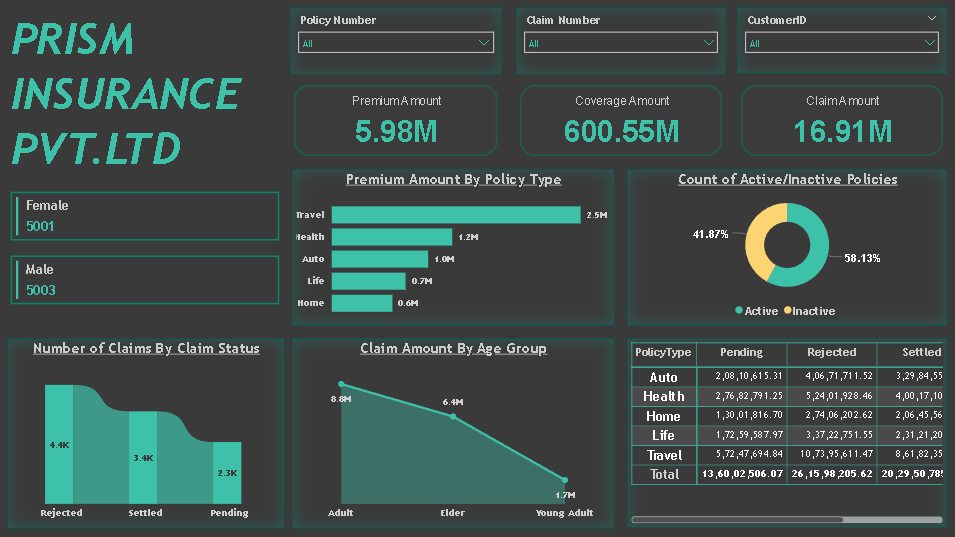

What the dashboard file says about the page in this screenshot:
{"tool":"powerbi","page":{"name":"Page 1","canvas":[1280,720],"ordinal":0},"visuals":[{"type":"slicer","fields":{"Values":["02  InsuranceData.PolicyNumber"]},"box":[391,10.3,282.6,90.3],"z":0},{"type":"slicer","fields":{"Values":["02  InsuranceData.ClaimNumber"]},"box":[691.6,10.3,280,90.3],"z":1000},{"type":"textbox","box":[12.9,10.3,367.7,231],"z":2000},{"type":"cardVisual","fields":{"Data":["Sum(02  InsuranceData.PremiumAmount)"]},"box":[391,109.7,282.6,105.8],"z":3000},{"type":"cardVisual","fields":{"Data":["Sum(02  InsuranceData.CoverageAmount)"]},"box":[691.6,109.7,280,105.8],"z":4000},{"type":"cardVisual","title":"Claim Amount","fields":{"Data":["Sum(02  InsuranceData.ClaimAmount)"]},"box":[987.1,109.7,280,105.8],"z":5000},{"type":"multiRowCard","fields":{"Values":["02  InsuranceData.Gender","CountNonNull(02  InsuranceData.Gender)"]},"box":[12.9,251.6,367.7,184.5],"z":6000},{"type":"ribbonChart","title":"Number of Claims By Claim Status","fields":{"Category":["02  InsuranceData.ClaimStatus"],"Y":["CountNonNull(02  InsuranceData.ClaimStatus)"]},"box":[12.9,451.6,370.3,254.2],"z":7000},{"type":"barChart","title":"Premium Amount By Policy Type","fields":{"Category":["02  InsuranceData.PolicyType"],"Y":["Sum(02  InsuranceData.PremiumAmount)"]},"box":[393.5,227.1,429.7,209],"z":8000},{"type":"lineChart","title":"Claim Amount By Age Group","fields":{"Category":["02  InsuranceData.Age Group"],"Y":["Sum(02  InsuranceData.ClaimAmount)"]},"box":[393.5,451.6,429.7,254.2],"z":9000},{"type":"donutChart","title":"Count of Active/Inactive Policies","fields":{"Category":["02  InsuranceData.Active/Inactive"],"Y":["CountNonNull(02  InsuranceData.Active/Inactive)"]},"box":[840,227.1,427.1,209],"z":10000},{"type":"pivotTable","fields":{"Values":["Sum(02  InsuranceData.CoverageAmount)"],"Rows":["02  InsuranceData.PolicyType"],"Columns":["02  InsuranceData.ClaimStatus"]},"box":[840,451.6,427.1,252.9],"z":11000},{"type":"slicer","fields":{"Values":["02  InsuranceData.CustomerID"]},"box":[987.1,10.3,280,89],"z":12000}]}

Visuals, with their boxes in screenshot pixels (x1, y1, x2, y2), scaled from the page's 1280x720 canvas onto the 955x537 screenshot:
slicer - 02  InsuranceData.PolicyNumber: rect(292, 8, 503, 75)
slicer - 02  InsuranceData.ClaimNumber: rect(516, 8, 725, 75)
textbox: rect(10, 8, 284, 180)
cardVisual - Sum(02  InsuranceData.PremiumAmount): rect(292, 82, 503, 161)
cardVisual - Sum(02  InsuranceData.CoverageAmount): rect(516, 82, 725, 161)
"Claim Amount" cardVisual: rect(736, 82, 945, 161)
multiRowCard - 02  InsuranceData.Gender x CountNonNull(02  InsuranceData.Gender): rect(10, 188, 284, 325)
"Number of Claims By Claim Status" ribbonChart: rect(10, 337, 286, 526)
"Premium Amount By Policy Type" barChart: rect(294, 169, 614, 325)
"Claim Amount By Age Group" lineChart: rect(294, 337, 614, 526)
"Count of Active/Inactive Policies" donutChart: rect(627, 169, 945, 325)
pivotTable - Sum(02  InsuranceData.CoverageAmount) x 02  InsuranceData.PolicyType: rect(627, 337, 945, 525)
slicer - 02  InsuranceData.CustomerID: rect(736, 8, 945, 74)
